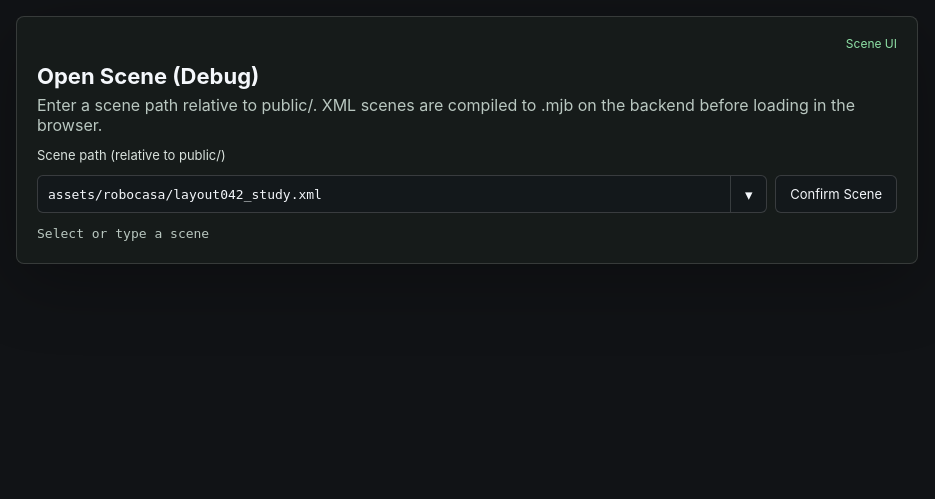
renders debug launcher on /debug
Expected: the heading "Open Scene (Debug)" is shown, x1=37 y1=63 x2=259 y2=89
Click the button named "Show preset scene paths": (748, 194) x1=730 y1=176 x2=766 y2=212
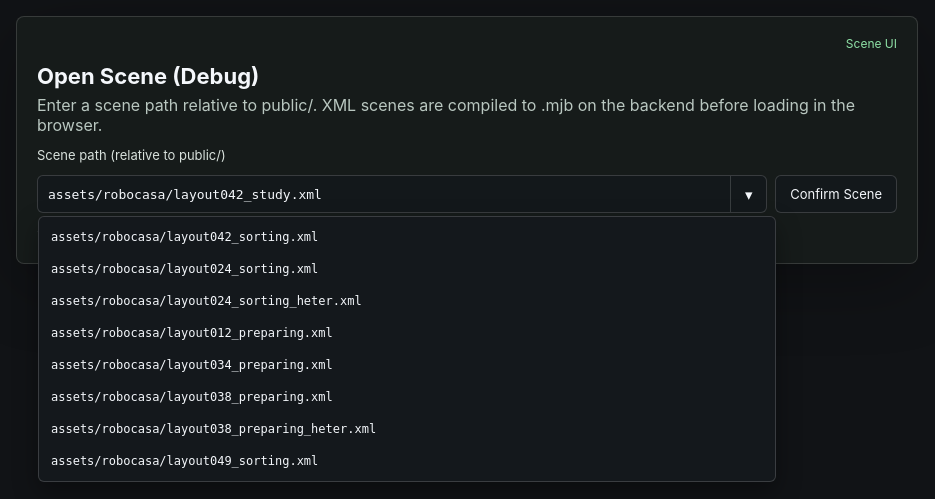
Expected: the number of options is 8
Click the option "assets/robocasa/layout038_preparing_heter.xml": (214, 429) x1=43 y1=413 x2=771 y2=445
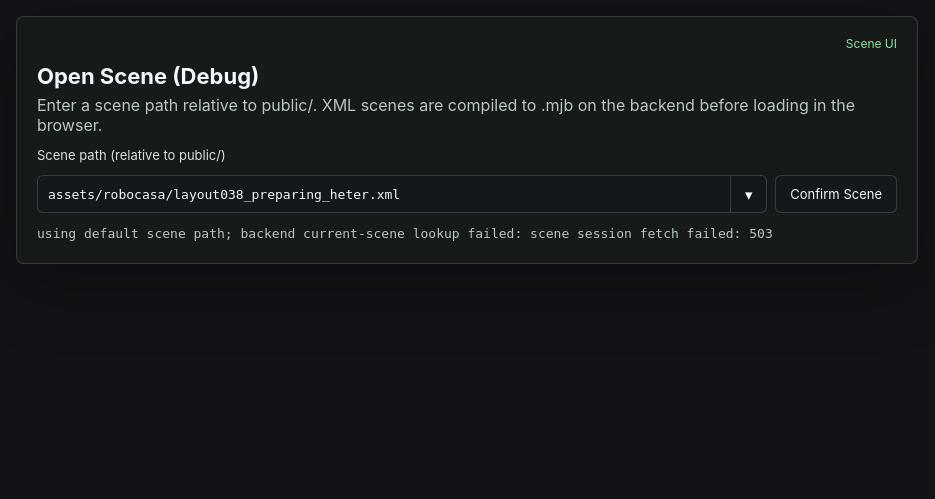
Expected: the dropdown labelled "Scene path (relative to public/)" holds "assets/robocasa/layout038_preparing_heter.xml", x1=38 y1=176 x2=730 y2=212
